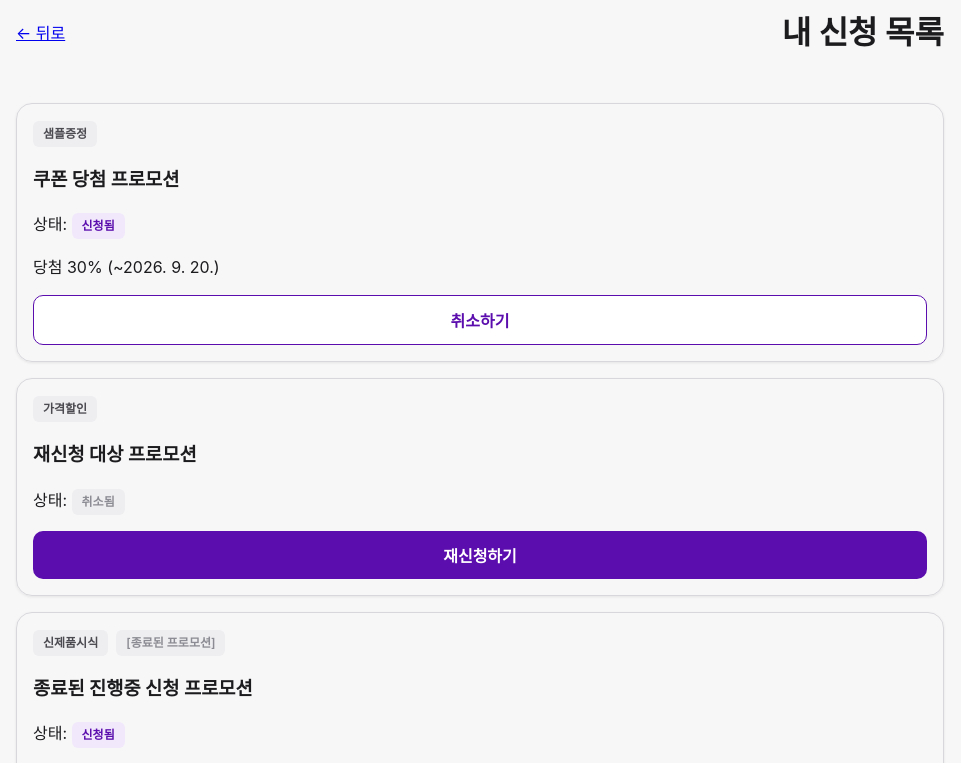
Test: clicking cancel on an applied item flips it to canceled after refetch
Expected: the text "쿠폰 당첨 프로모션" is shown, [33, 168, 180, 191]
Click the button "취소하기" below "30": (480, 320) [33, 295, 927, 345]
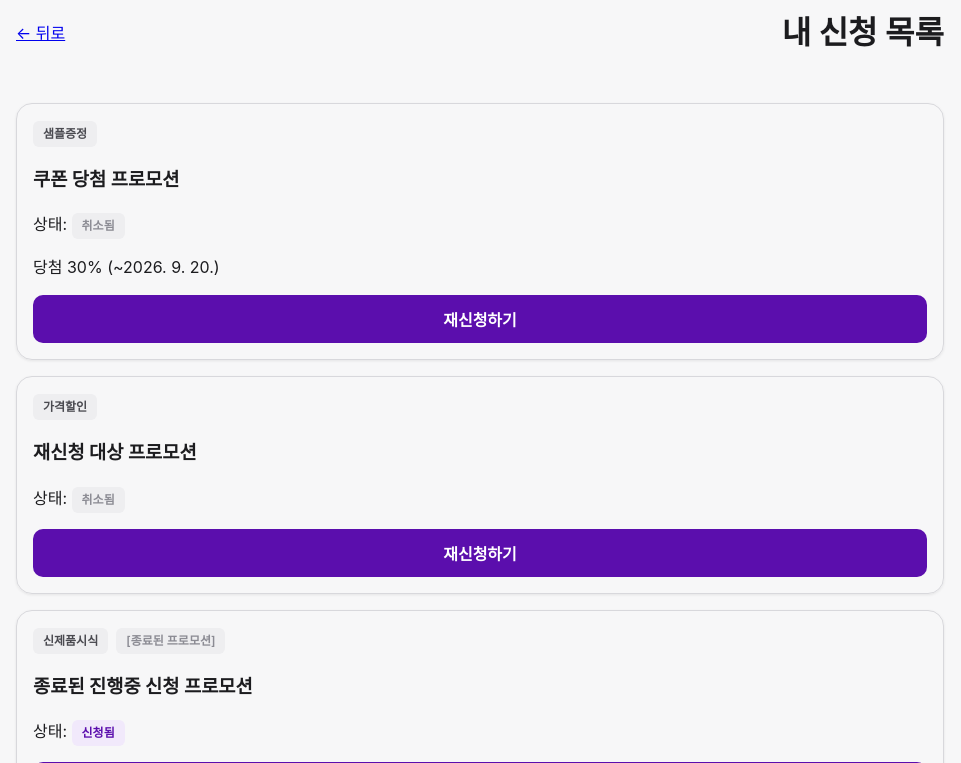
Expected: the text "취소됨" below "쿠폰 당첨 프로모션" is shown, [82, 218, 115, 233]
